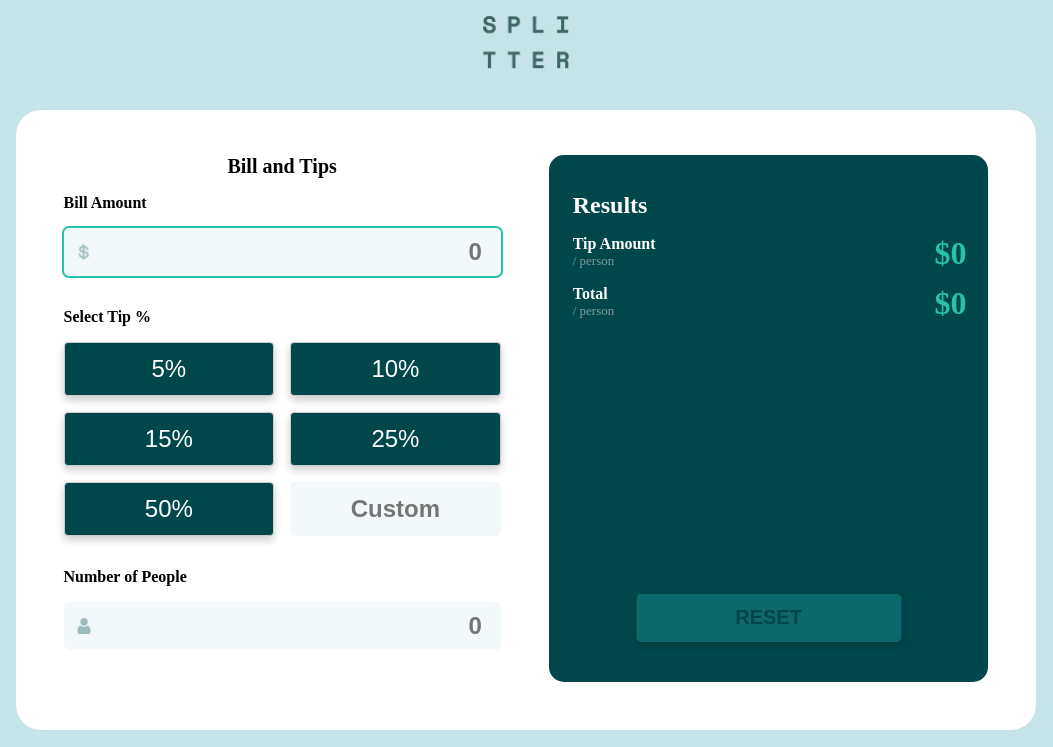
Scenario: Clicking on 5% set it to 5%
Expected: the field named "Custom Tip Percentage" is empty, x1=290 y1=482 x2=501 y2=536
Click the button labelled "5%": point(169, 369) x1=64 y1=342 x2=274 y2=396
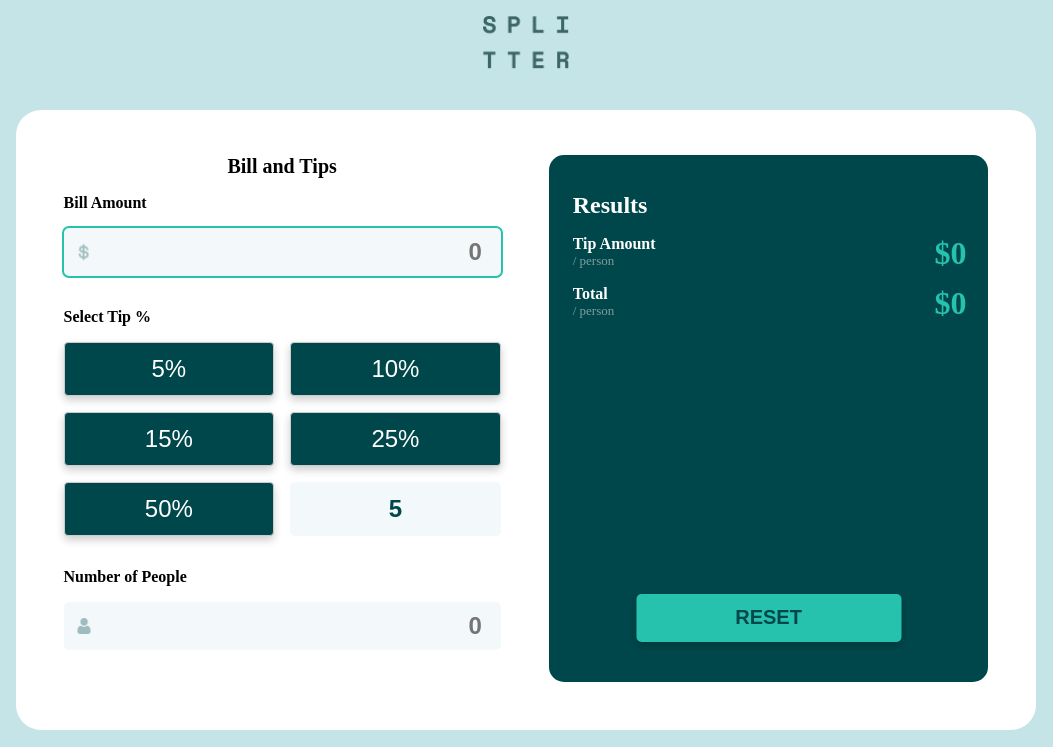
Expected: the field named "Custom Tip Percentage" holds "5", x1=290 y1=482 x2=501 y2=536
